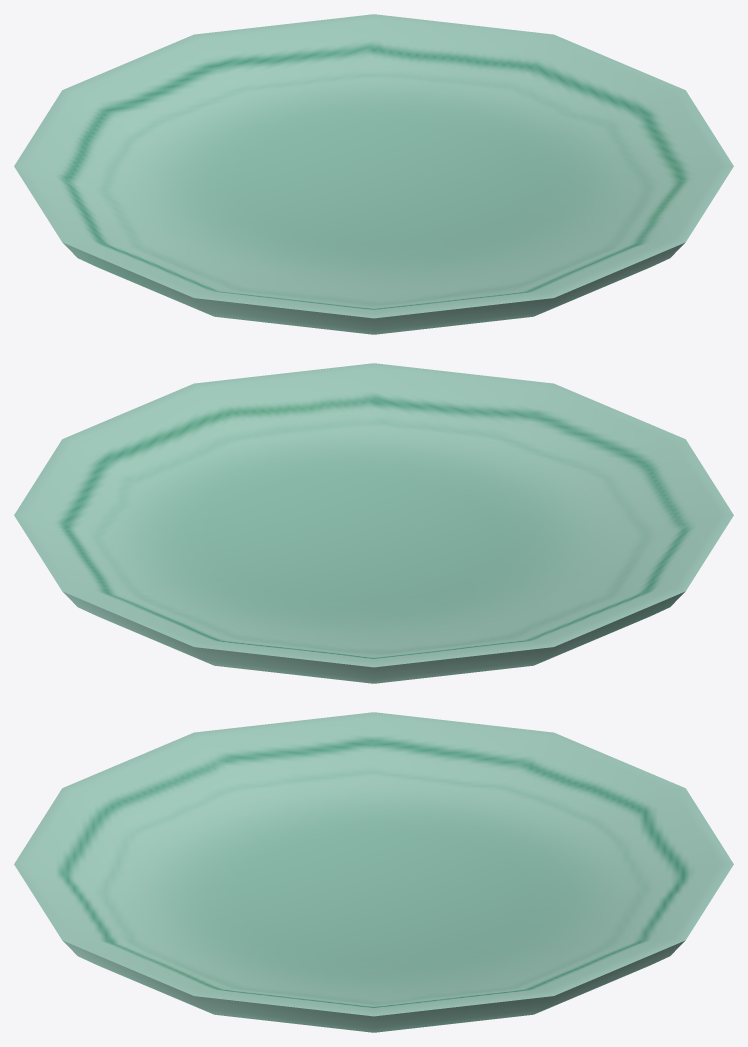
Rendered from Prop_Plate.fbx.
The picture shows the model from 3 angles, top to bottom: view 1: azimuth 30°, elevation 25°; view 2: azimuth 150°, elevation 25°; view 3: azimuth 270°, elevation 25°; orthographic projection.
Parts seen in each view (by area): view 1: plate.001; view 2: plate.001; view 3: plate.001.
Boxes of the visible parts, x1,y1,x2,y2 form: plate.001: [14, 14, 733, 334]; plate.001: [14, 363, 733, 683]; plate.001: [14, 712, 733, 1032].
Bounding box in the file's own units: 91.53 × 4.7 × 91.53.
